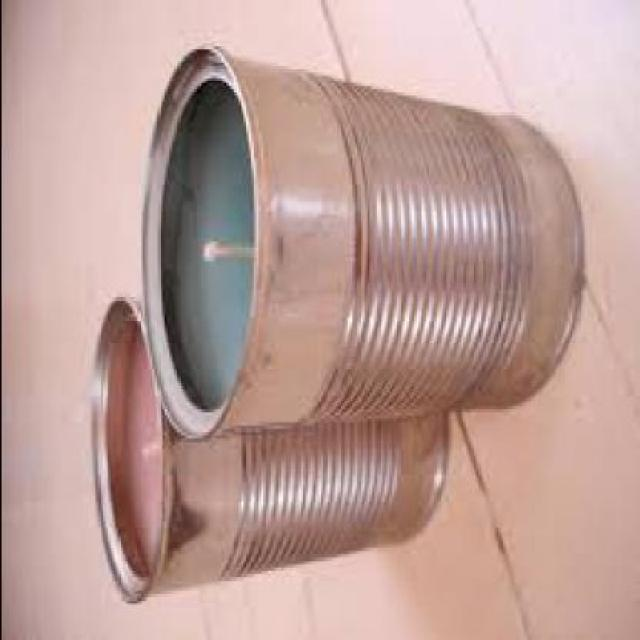METAL: (138, 43, 580, 435), (87, 293, 447, 601)
